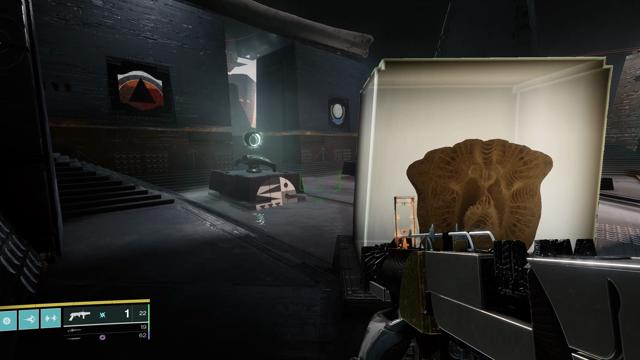pyramid: (117, 70, 163, 110)
traveler: (330, 103, 345, 125)
